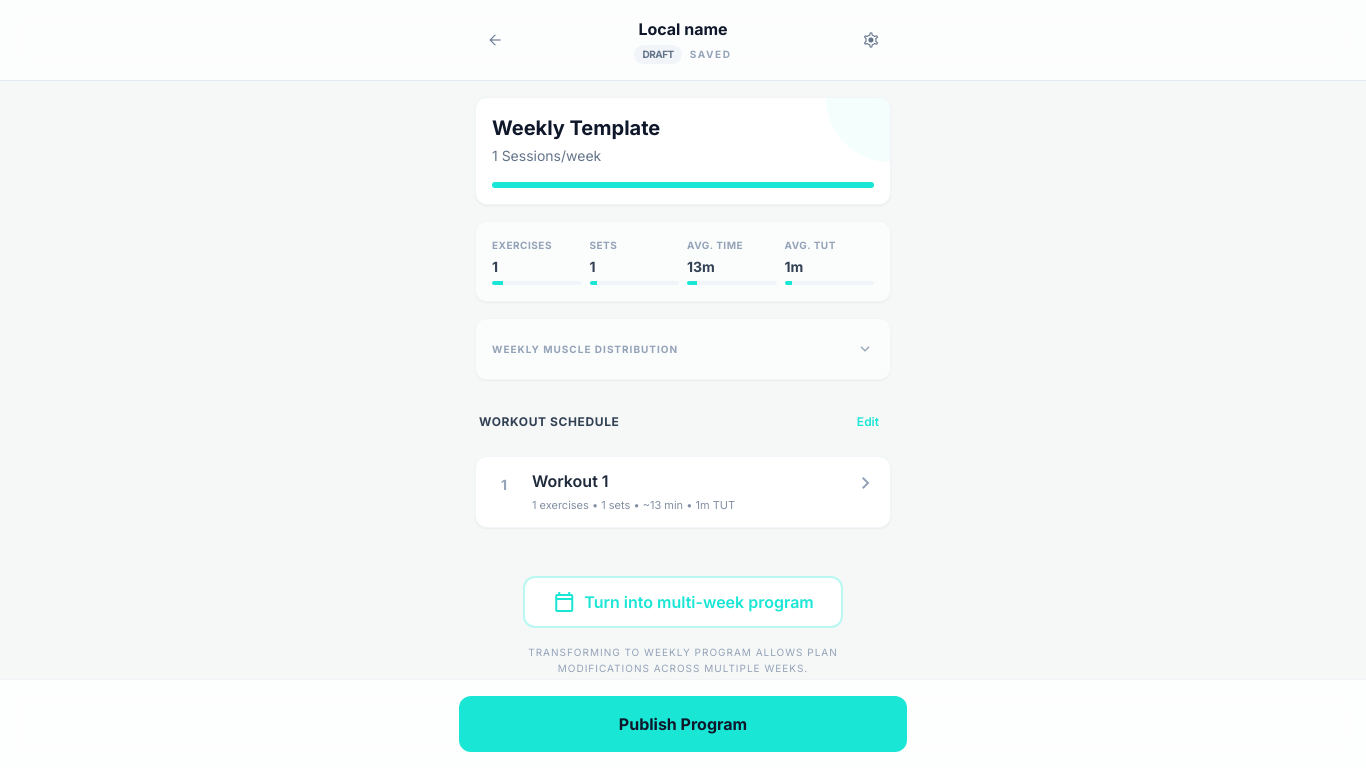
Test: ManualBuilder Weekly terminal publish barrier › document conflict blocks without retry
This screenshot has width=1366, height=768.
Click the button "Publish Program" at [683, 724], box 459,696 -> 907,752
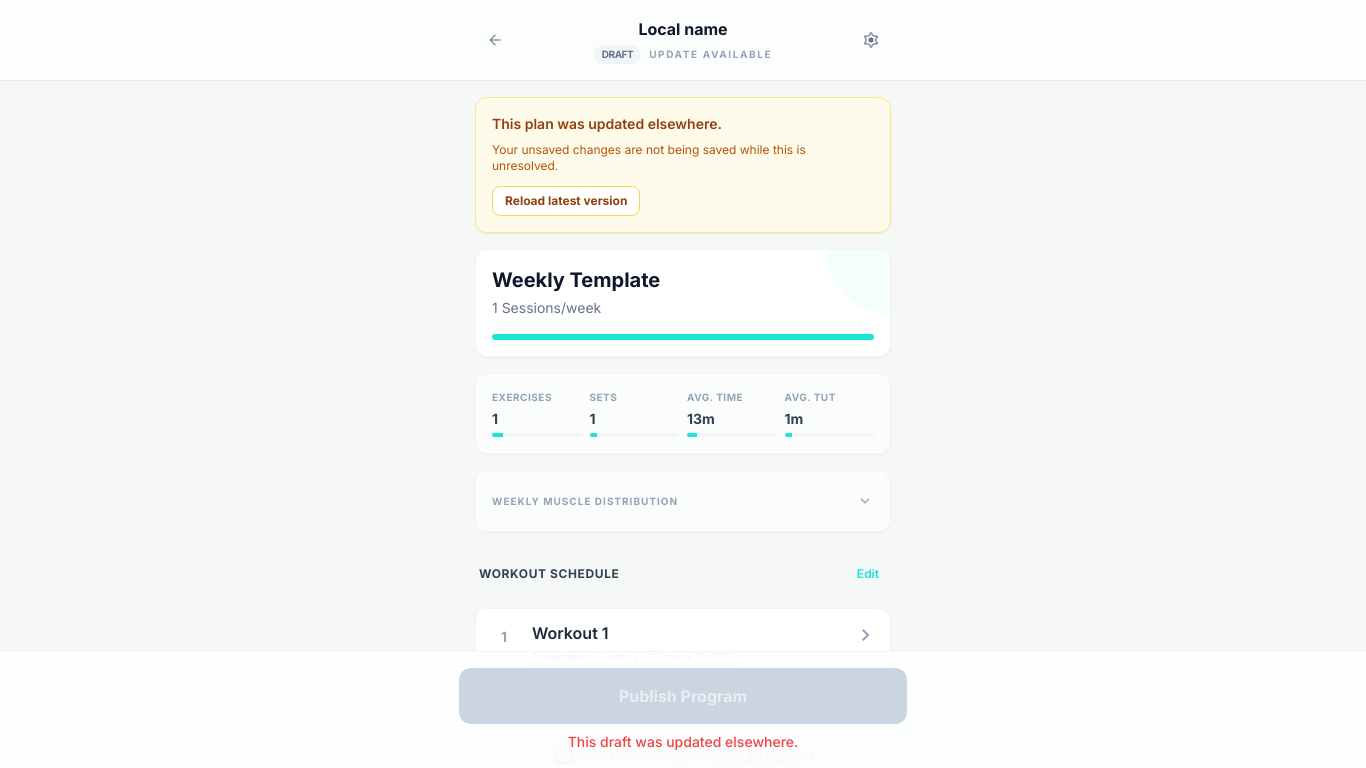
Expected: the heading "Local name" is shown, 638,16 -> 728,40
Now the text "This draft was updated elsewhere." is shown, box 568,733 -> 798,750
